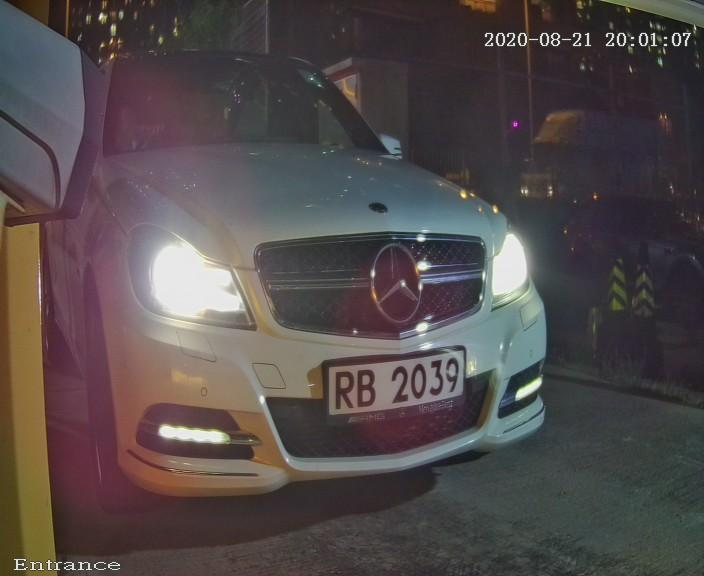Car: (13, 1, 607, 543)
License Plate: (294, 332, 495, 427)
